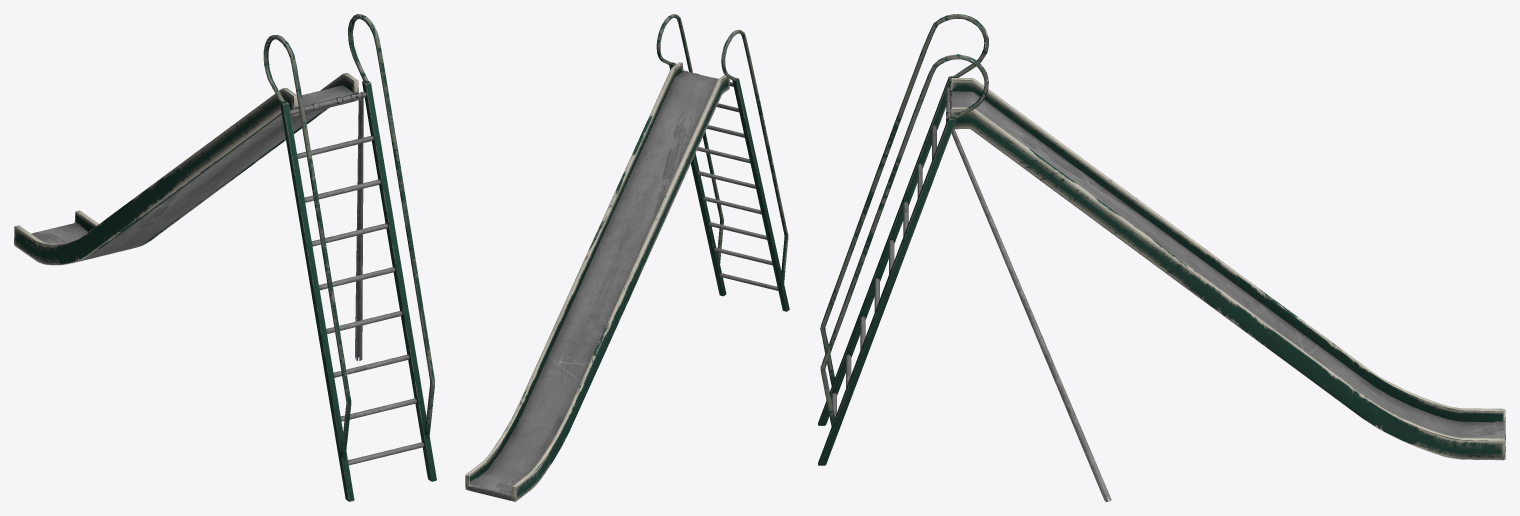
File: slide.glb
The picture shows the model from 3 angles, left to right: view 1: azimuth 30°, elevation 25°; view 2: azimuth 150°, elevation 25°; view 3: azimuth 270°, elevation 25°; orthographic projection. The views are drawn at different scales.
Visible parts, largest first — view 1: old_playground_slide; view 2: old_playground_slide; view 3: old_playground_slide.
Part boxes in pixels (x1,y1,x2,y2): old_playground_slide: (14,14,436,501); old_playground_slide: (465,14,789,501); old_playground_slide: (818,14,1505,501).
Bounding box in the file's own units: 2.54 × 6.34 × 9.58.
1 material, 1 textured.
